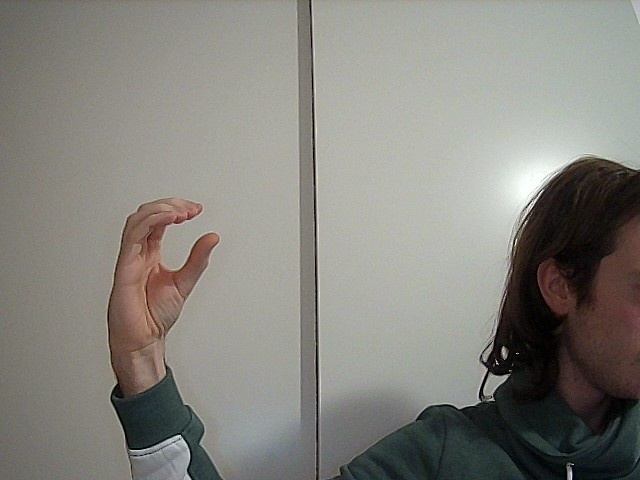c: (98, 191, 229, 344)
